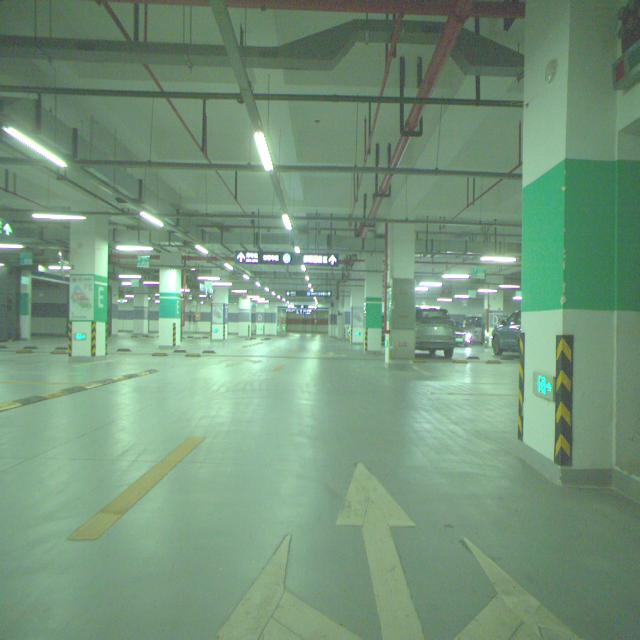pillar: (69, 216, 109, 356), (159, 267, 181, 347)
